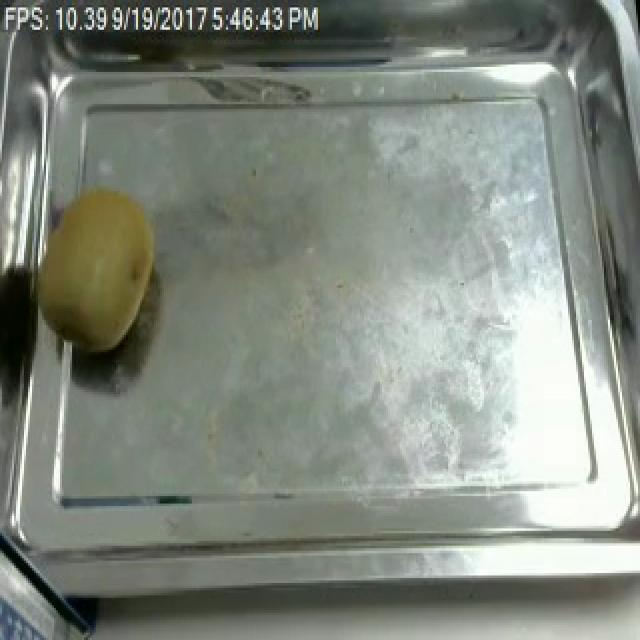Fruit: (24, 176, 168, 362)
